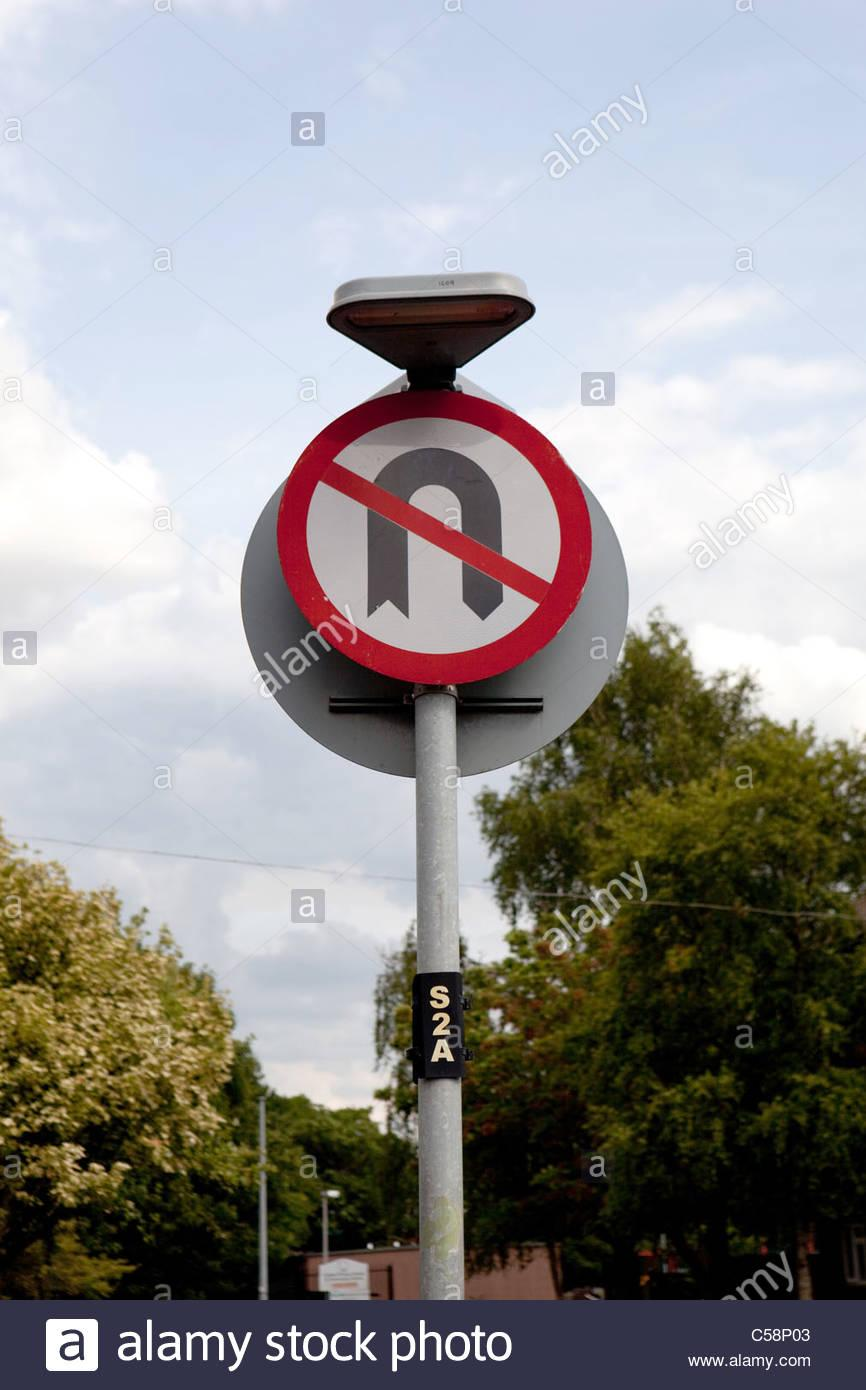no_u_turn: (278, 389, 593, 686)
